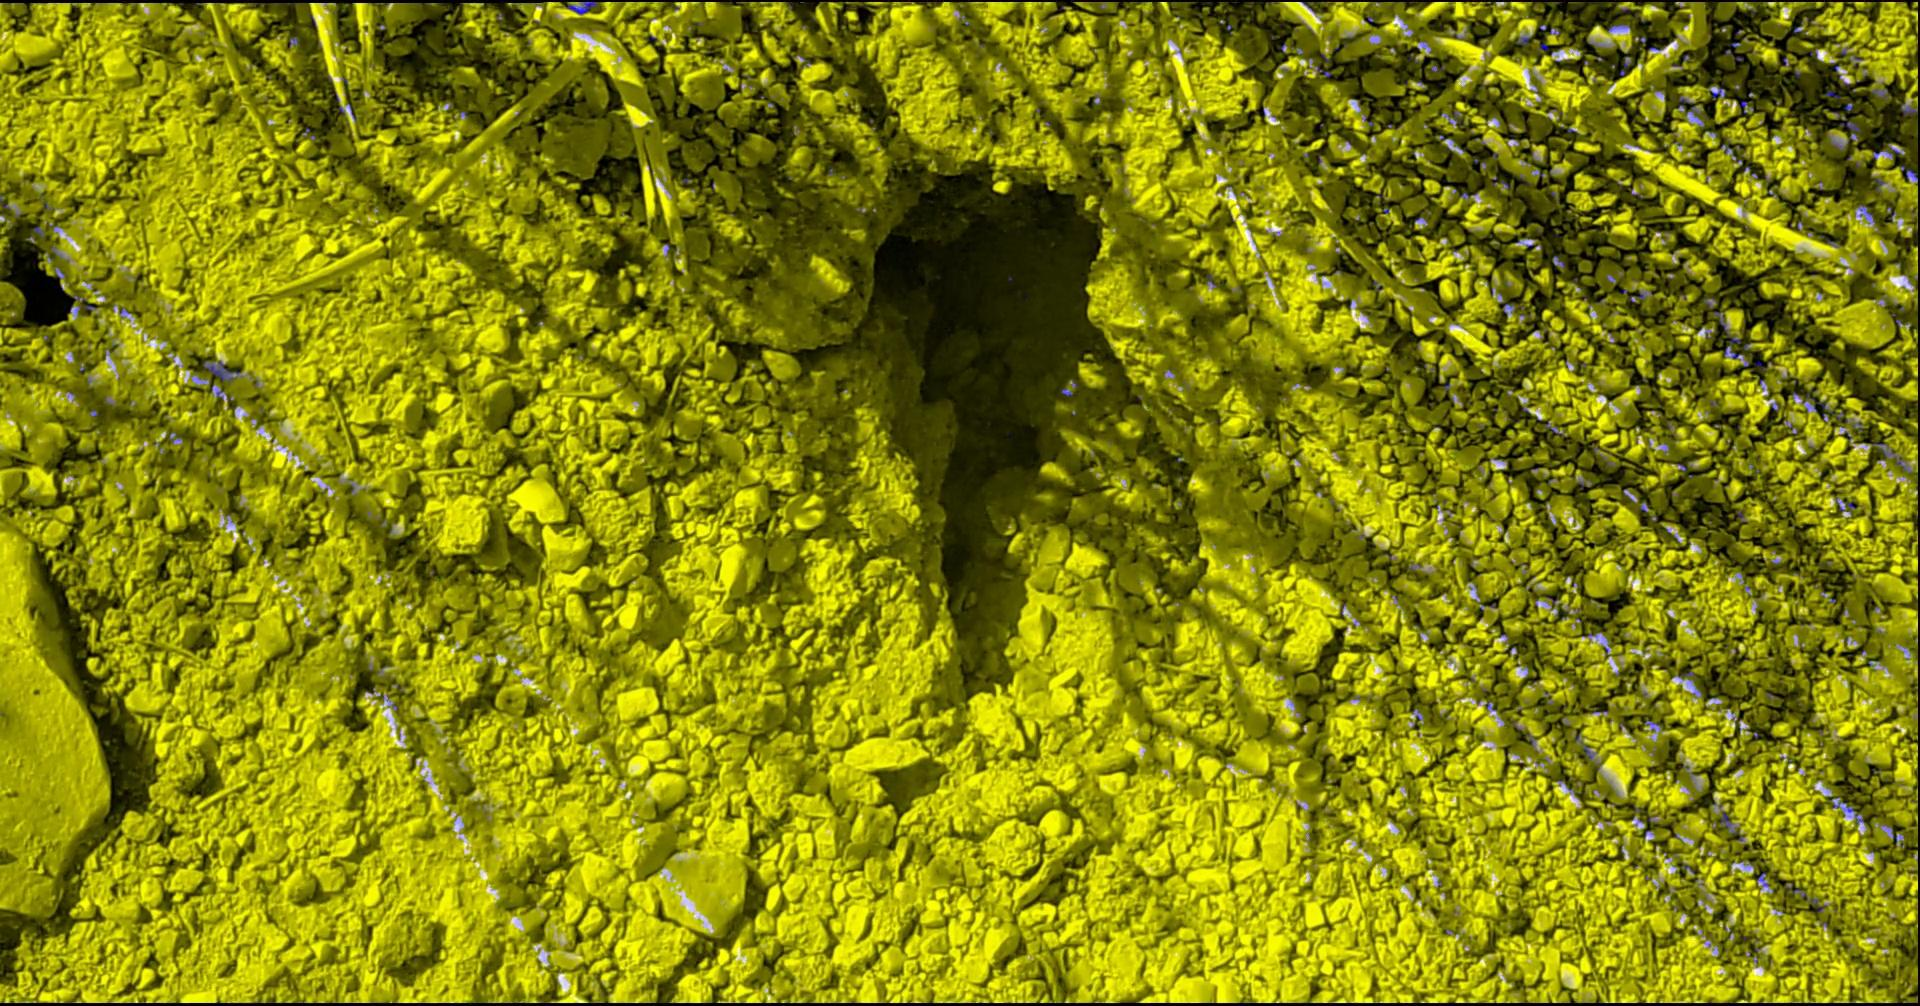ant: (1712, 310, 1741, 358), (1872, 441, 1906, 471), (1831, 111, 1860, 140), (203, 359, 239, 381), (1575, 732, 1592, 760), (1872, 142, 1901, 158), (566, 0, 596, 14), (1686, 104, 1705, 121), (1834, 497, 1854, 511), (1898, 103, 1919, 114), (1448, 111, 1464, 124), (1719, 810, 1731, 829), (1870, 88, 1888, 99), (1709, 86, 1724, 99)
